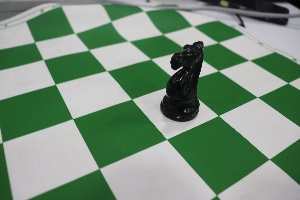black_horse: (157, 24, 203, 127)
